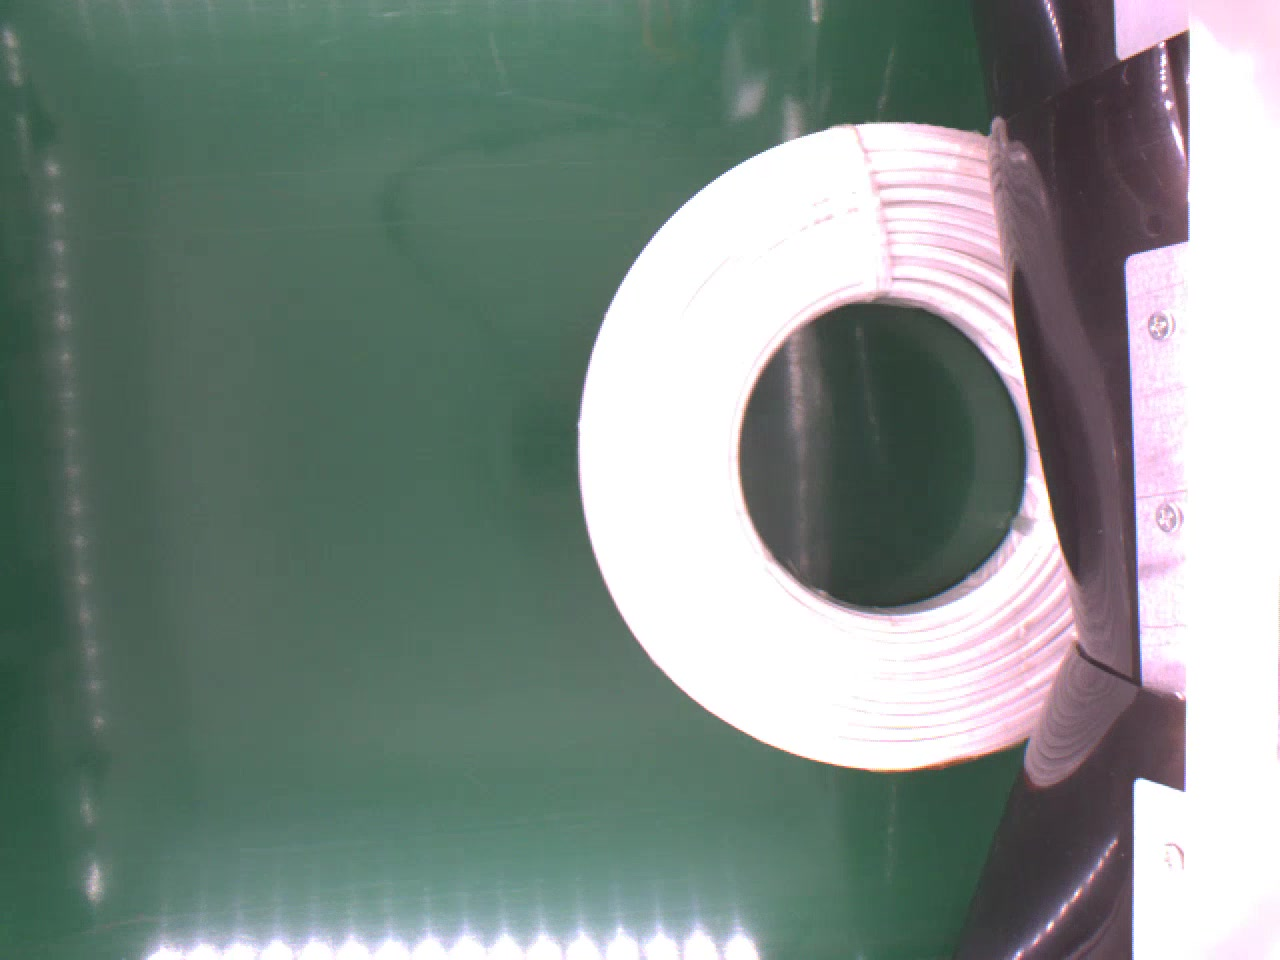white: (573, 120, 1080, 774)
